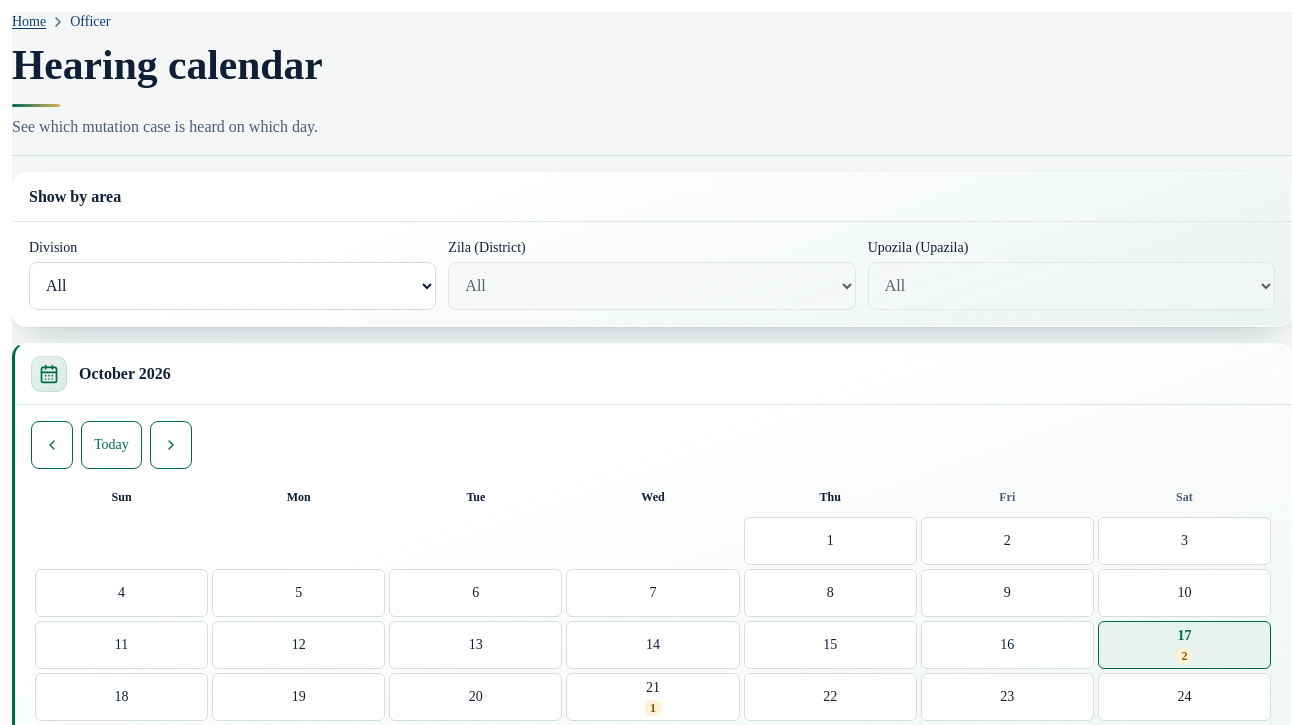
Scenario: HearingCalendar › asks for the next month
Expected: the button with test id "day-2026-10-17" is shown, [1098, 621, 1271, 669]
Click the button with test id "cal-next" at (171, 445), box [150, 421, 192, 469]
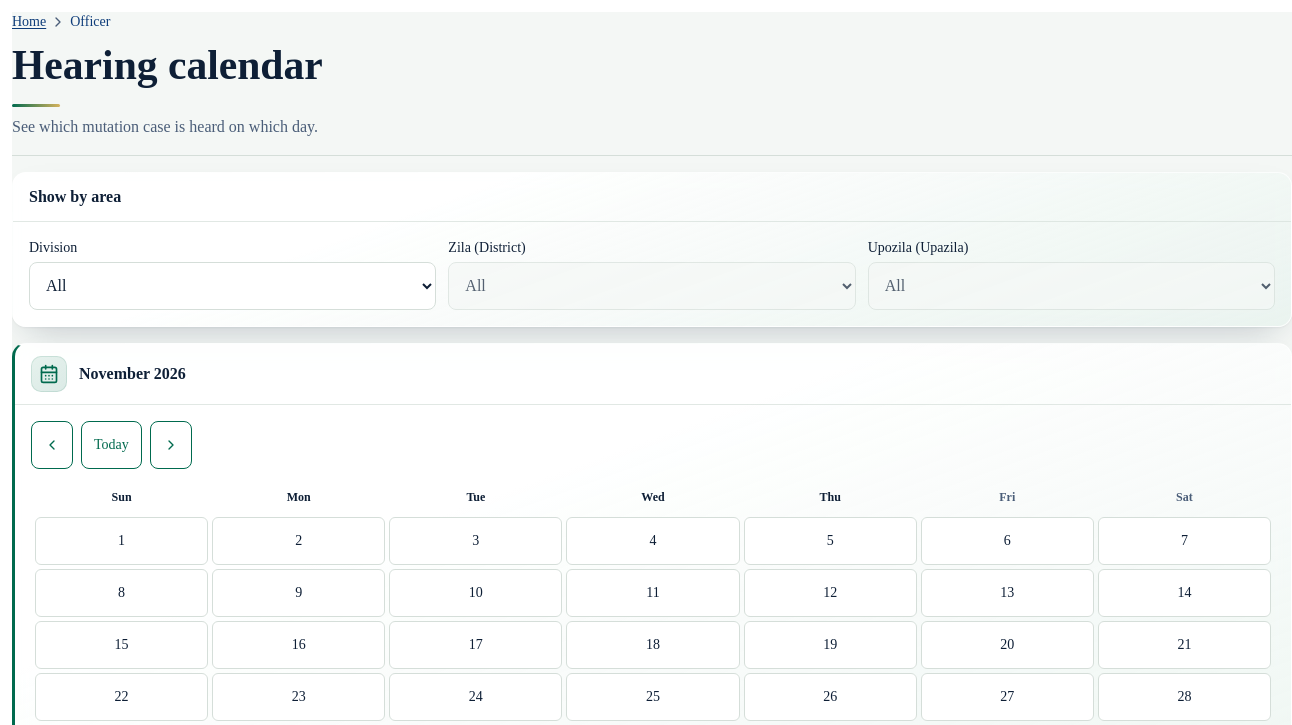
Click the button with test id "cal-today" at (111, 445), box [81, 421, 142, 469]
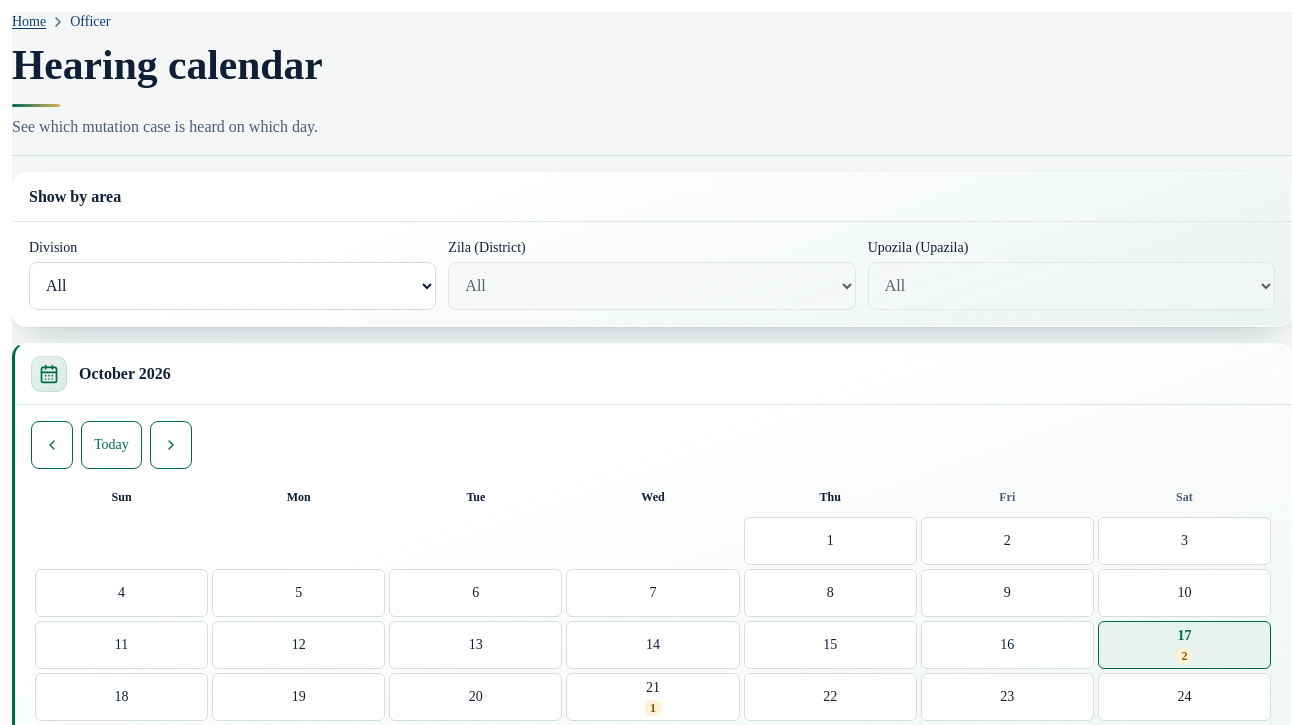
Now the button with test id "day-2026-10-17" is shown, box [1098, 621, 1271, 669]
